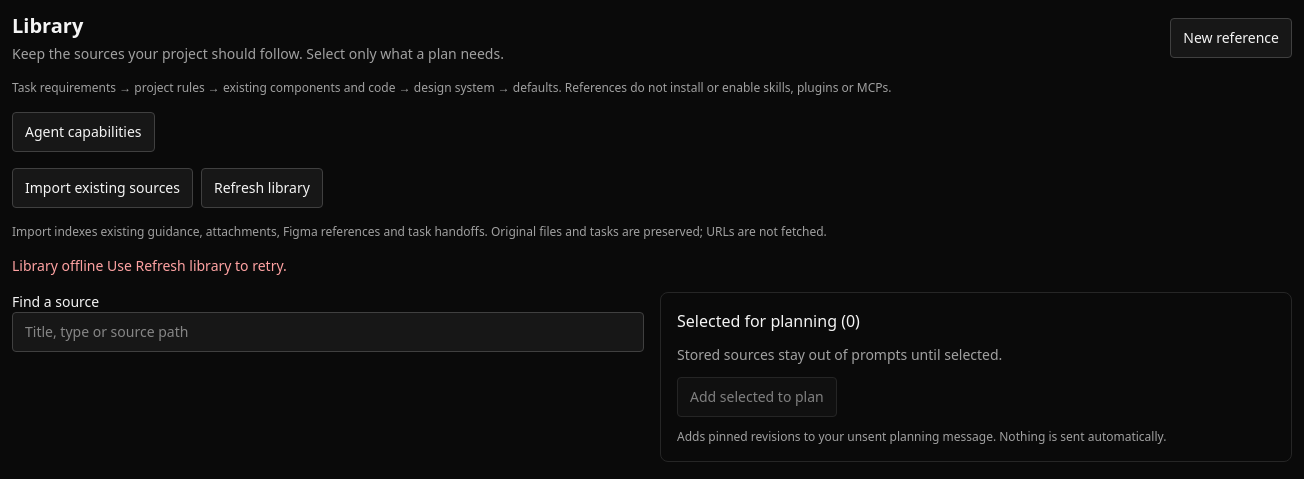
it: shows empty and failed loading states with a working refresh
This screenshot has width=1304, height=479.
Expected: the message shows "Library offline", [12,256,103,275]
Click the button "Refresh library": (262, 188) [201,168,323,208]
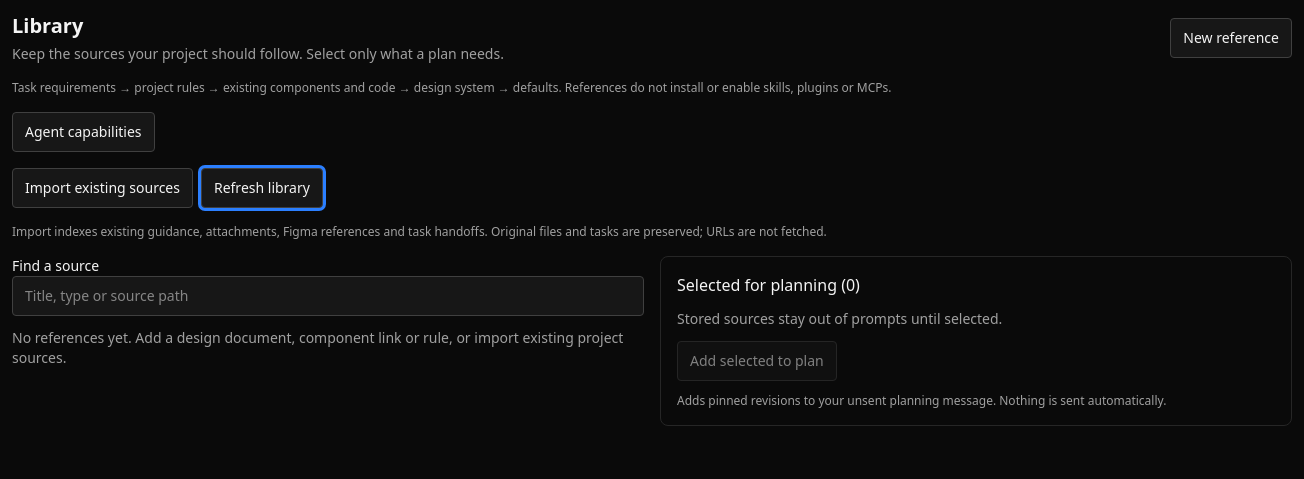
Now the text "No references yet" is shown, box [12,328,623,367]
